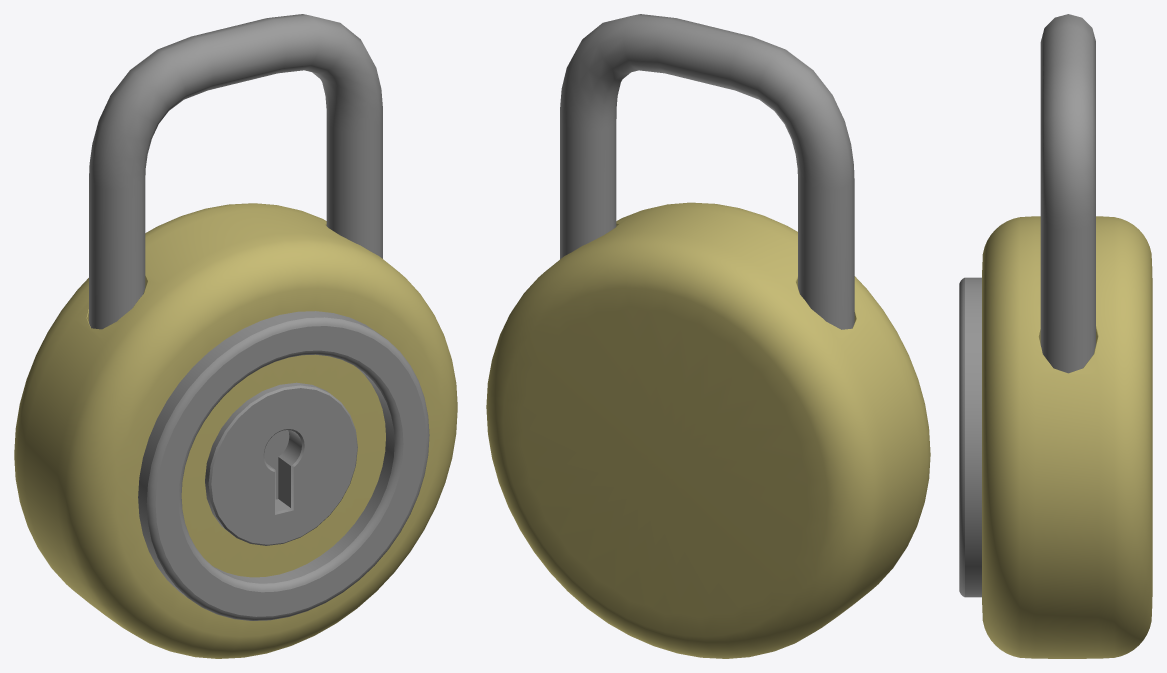
The model's file is Lock.FBX.
3 views of the same model, side by side, from view 1: azimuth 30°, elevation 25°; view 2: azimuth 150°, elevation 25°; view 3: azimuth 270°, elevation 25° (orthographic). The views are drawn at different scales.
Visible parts, largest first — view 1: Lock; view 2: Lock; view 3: Lock.
Part boxes in pixels (box(x1,y1,x2,y2)): Lock: box(14, 14, 457, 658); Lock: box(486, 14, 930, 658); Lock: box(959, 14, 1152, 658).
Size of the model in its own units: 49.76 by 73.64 by 21.72.
